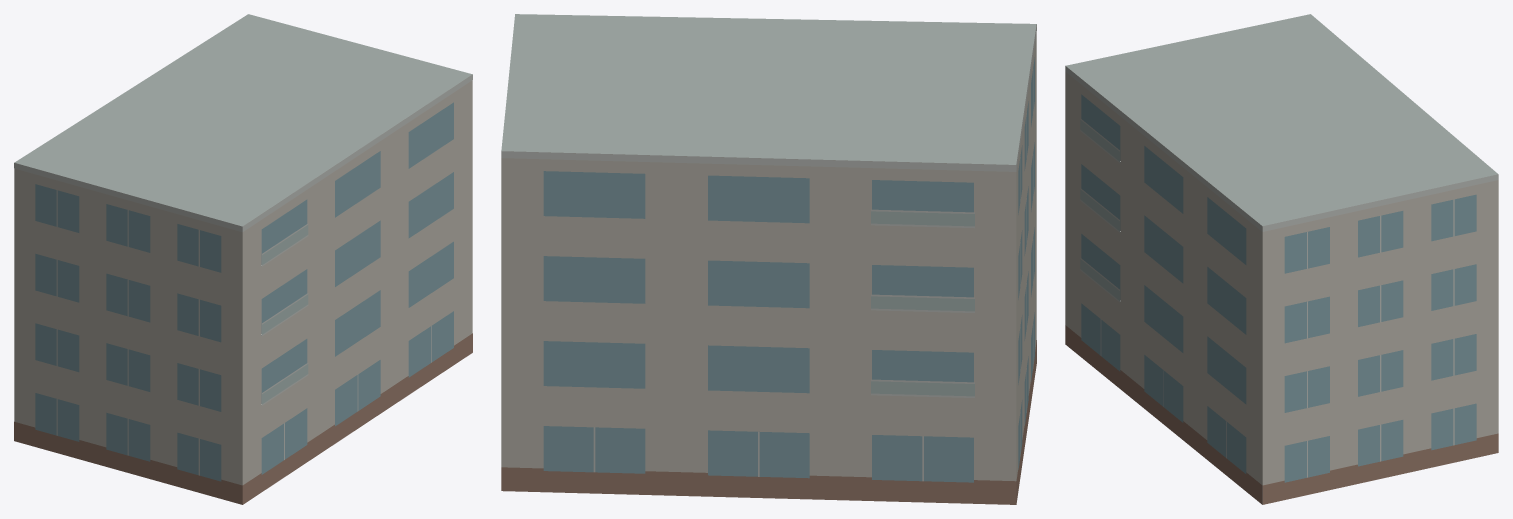
File: survey-upis-32822722.glb
The picture shows the model from 3 angles, left to right: view 1: azimuth 30°, elevation 25°; view 2: azimuth 150°, elevation 25°; view 3: azimuth 270°, elevation 25°; orthographic projection. The views are drawn at different scales.
Visible parts, largest first — view 1: survey-upis-32822722.tmp; view 2: survey-upis-32822722.tmp; view 3: survey-upis-32822722.tmp.
Boxes of the visible parts, x1,y1,x2,y2 form: survey-upis-32822722.tmp: (14, 14, 472, 504); survey-upis-32822722.tmp: (501, 14, 1036, 504); survey-upis-32822722.tmp: (1065, 14, 1498, 504).
Size of the model in its own units: 19.29 by 11.8 by 16.63.
